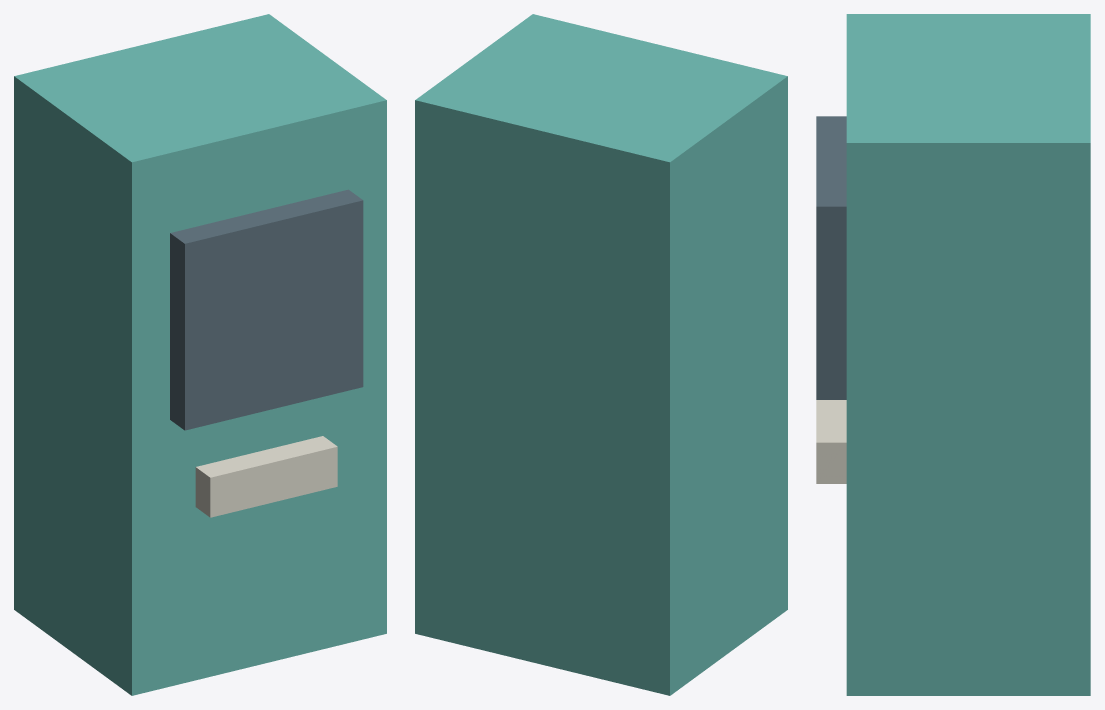
File: voxel-city-districts-ticket-machine-e6b944d4__24832.glb
3 views of the same model, side by side, from view 1: azimuth 30°, elevation 25°; view 2: azimuth 150°, elevation 25°; view 3: azimuth 270°, elevation 25° (orthographic). The views are drawn at different scales.
Parts seen in each view (by area): view 1: ticket-machine-accent, ticket-machine-dark, ticket-machine-concrete; view 2: ticket-machine-accent; view 3: ticket-machine-accent, ticket-machine-dark, ticket-machine-concrete.
Part boxes in pixels (bbox=[...]): ticket-machine-accent: bbox=[14, 14, 386, 695]; ticket-machine-dark: bbox=[170, 189, 363, 430]; ticket-machine-concrete: bbox=[195, 436, 337, 517]; ticket-machine-accent: bbox=[415, 14, 787, 695]; ticket-machine-accent: bbox=[846, 14, 1090, 695]; ticket-machine-dark: bbox=[816, 116, 846, 399]; ticket-machine-concrete: bbox=[816, 400, 846, 483].
Size of the model in its own units: 1 by 2 by 0.8999.
